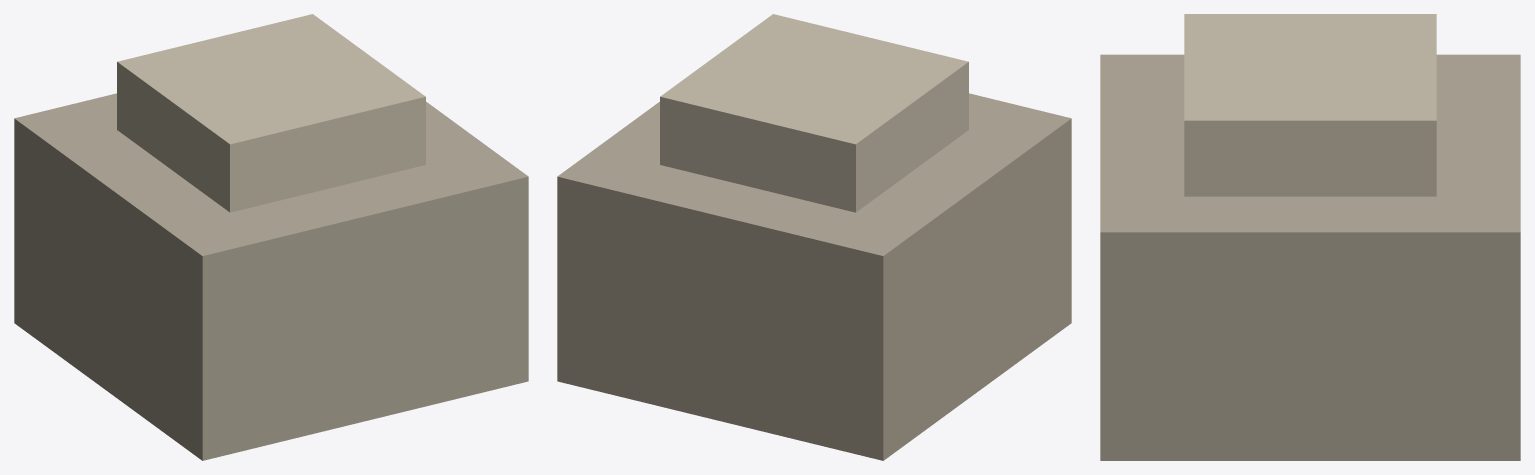
The model's file is polvo_01.glb.
3 renders of one model, left to right at view 1: azimuth 30°, elevation 25°; view 2: azimuth 150°, elevation 25°; view 3: azimuth 270°, elevation 25°, orthographic. The views are drawn at different scales.
Parts seen in each view (by area): view 1: polvo; view 2: polvo; view 3: polvo.
Part boxes in pixels (x1,y1,x2,y2): polvo: (14, 14, 528, 460); polvo: (557, 14, 1071, 460); polvo: (1100, 14, 1520, 460).
Bounding box in the file's own units: 0.625 × 0.5 × 0.625.
